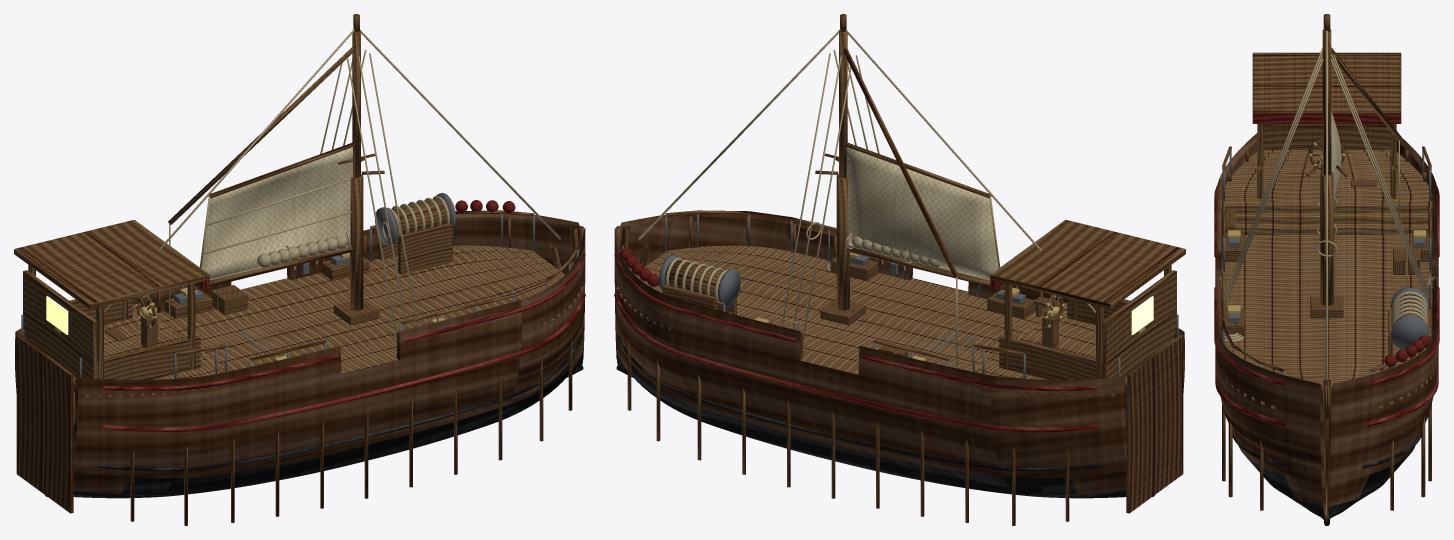
Rendered from trawler_v2.glb.
The picture shows the model from 3 angles, left to right: view 1: azimuth 30°, elevation 25°; view 2: azimuth 150°, elevation 25°; view 3: azimuth 270°, elevation 25°; orthographic projection.
Visible parts, largest first — view 1: SM_Trawler; view 2: SM_Trawler; view 3: SM_Trawler.
Part boxes in pixels (x1,y1,x2,y2): SM_Trawler: (14, 14, 585, 525); SM_Trawler: (614, 14, 1185, 525); SM_Trawler: (1214, 14, 1439, 525).
Size of the model in its own units: 16.53 by 12.84 by 6.08.
Materials: 11 (7 with a texture image).
